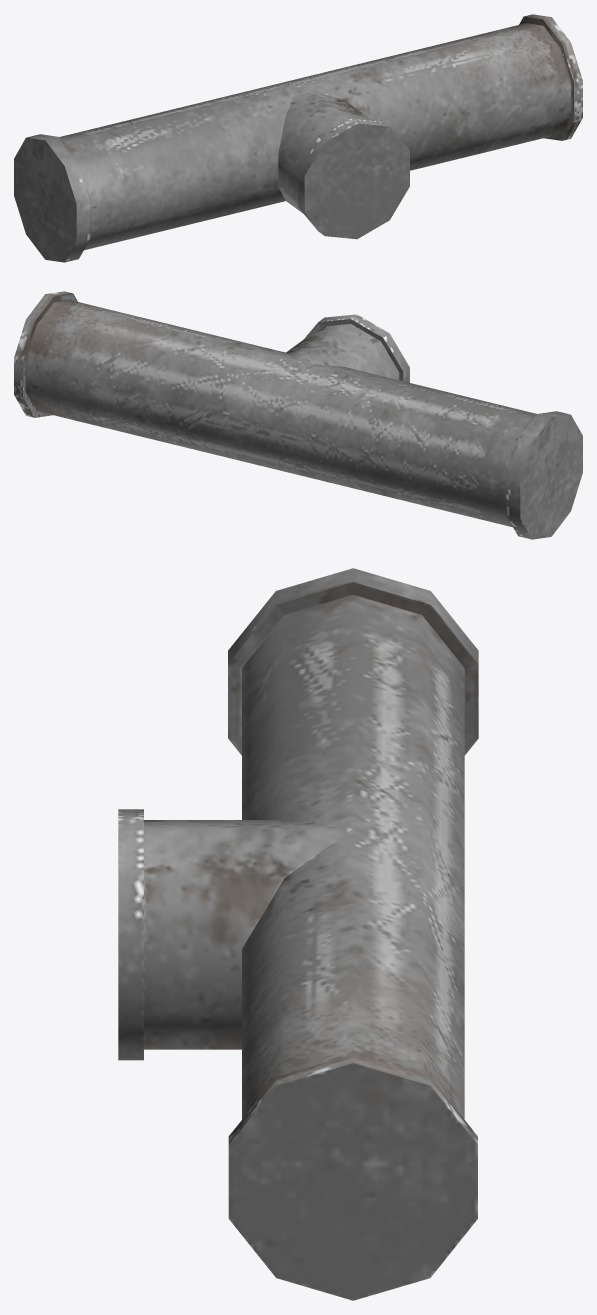
The model's file is tPipeV2.fbx.
3 views of the same model, one above another, from view 1: azimuth 30°, elevation 25°; view 2: azimuth 150°, elevation 25°; view 3: azimuth 270°, elevation 25° (orthographic). The views are drawn at different scales.
Parts seen in each view (by area): view 1: tPipeKit_GEO; view 2: tPipeKit_GEO; view 3: tPipeKit_GEO.
Part boxes in pixels (x1,y1,x2,y2): tPipeKit_GEO: [14, 14, 582, 262]; tPipeKit_GEO: [14, 291, 582, 539]; tPipeKit_GEO: [118, 568, 478, 1300].
Size of the model in its own units: 0.1 by 0.0225 by 0.0308.
